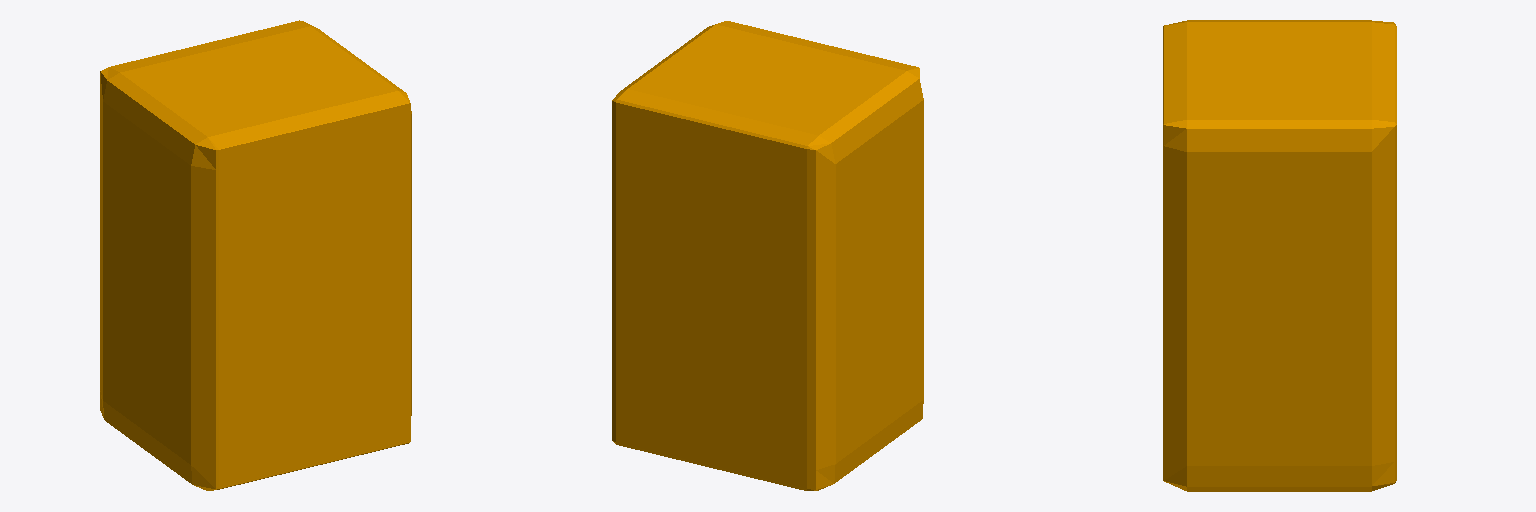
robot.urdf — cylinder_box_45:
<?xml version="1.0" encoding="utf-8"?>  <robot name="cylinder_box_45">   <link name="cylinder_box_45">     <visual>       <geometry>         <mesh filename="../meshes/box/box_45.stl" scale="1 1 1"/>       </geometry>     </visual>     <collision>       <geometry>         <mesh filename="../meshes/box/box_45.stl" scale="1 1 1"/>       </geometry>     </collision>     <inertial>        <origin         xyz="0 0 0"         rpy="0 0 0" />       <mass value="0.25476329184347574"/>       <origin rpy="0 0 0" xyz="0 0 0"/>       <inertia ixx="0.00021799120532508488" ixy="8.334950279768286e-08" ixz="7.369123851190427e-08" iyy="0.00023400610760739533" iyz="-1.4169038944207697e-08" izz="0.0001221117714752236"/>     </inertial>   </link>  </robot>

--- Render facts (derived) ---
The picture shows the robot from 3 angles, left to right: view 1: azimuth 30°, elevation 25°; view 2: azimuth 150°, elevation 25°; view 3: azimuth 270°, elevation 25°; orthographic projection.
Model cylinder_box_45 with 1 links and 0 joints (none), rooted at cylinder_box_45, posed all joints at 0.
Links seen in each view (by area): view 1: cylinder_box_45; view 2: cylinder_box_45; view 3: cylinder_box_45.
Link boxes in pixels (left/top/right/bottom): cylinder_box_45: left=100, top=20, right=411, bottom=490; cylinder_box_45: left=612, top=21, right=923, bottom=490; cylinder_box_45: left=1163, top=20, right=1396, bottom=491.
Size in the robot's own frame: 0.0578 by 0.0506 by 0.0888 metres.
Meshes: 1 distinct files referenced, 1 mesh visuals loaded (1 binary STL).